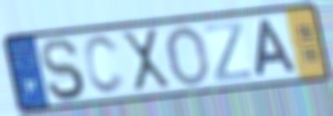A: (254, 17, 299, 80)
C: (81, 33, 128, 97)
O: (166, 24, 212, 89)
S: (39, 36, 87, 103)
X: (118, 26, 174, 95)
Z: (202, 19, 254, 84)
